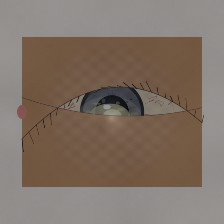corneal_ulcer: (76, 90, 143, 144)
